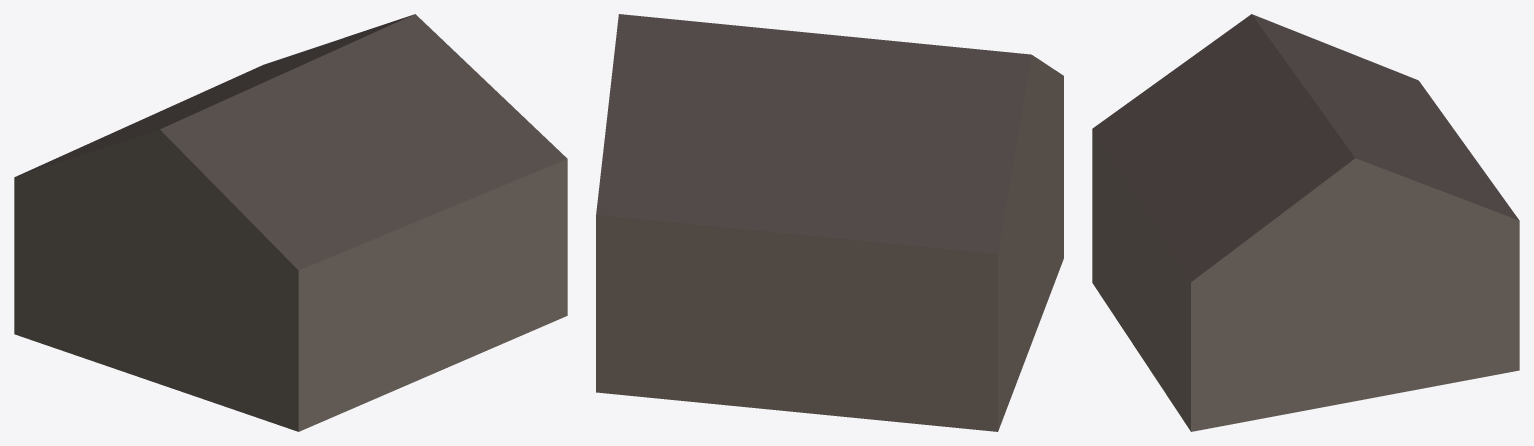
The picture shows the model from 3 angles, left to right: view 1: azimuth 30°, elevation 25°; view 2: azimuth 150°, elevation 25°; view 3: azimuth 270°, elevation 25°; orthographic projection. The views are drawn at different scales.
Parts seen in each view (by area): view 1: HP-w1512914131; view 2: HP-w1512914131; view 3: HP-w1512914131.
Boxes of the visible parts, bbox=[...] form: HP-w1512914131: bbox=[14, 14, 567, 431]; HP-w1512914131: bbox=[596, 14, 1063, 431]; HP-w1512914131: bbox=[1092, 14, 1519, 431].
Bounding box in the file's own units: 17.36 × 9.74 × 15.53.
